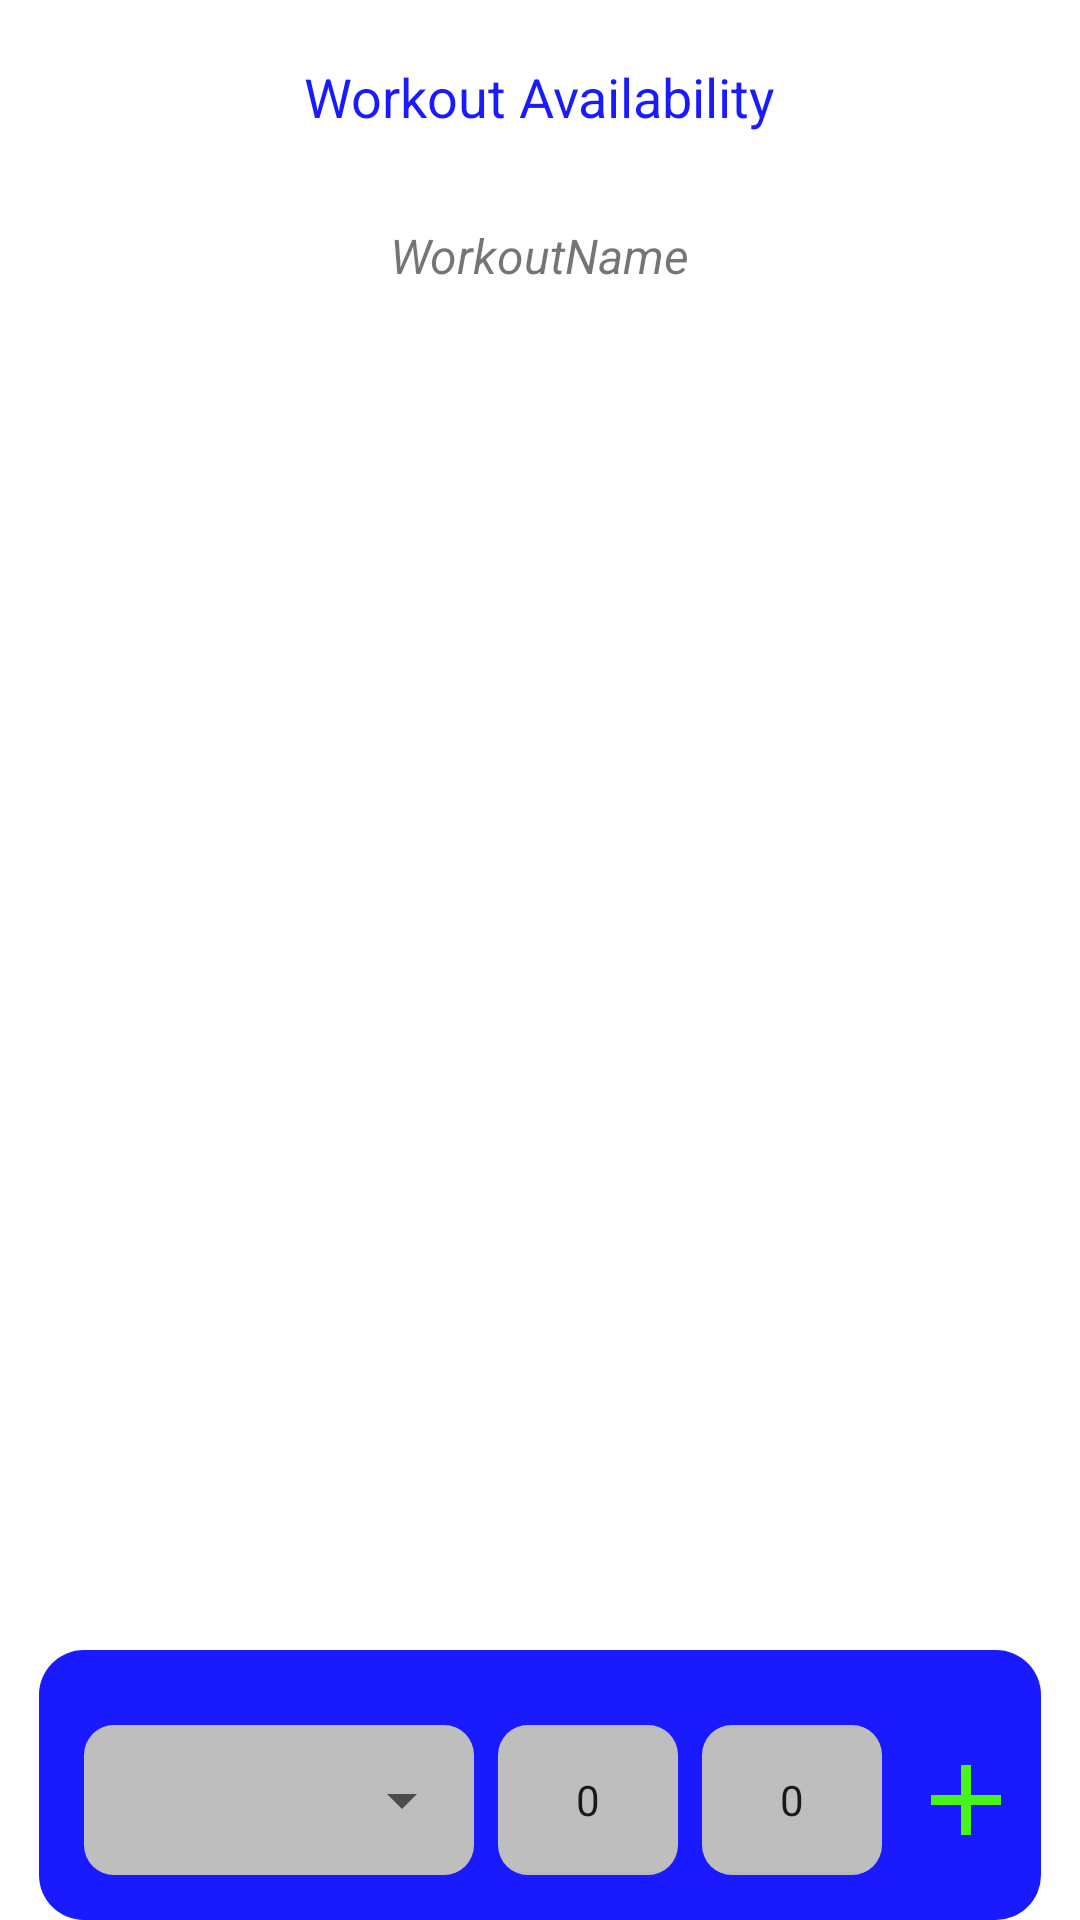

Where to tap for icons on this 1080x1920 app screen, as (x,y):
add: (966,1800)
